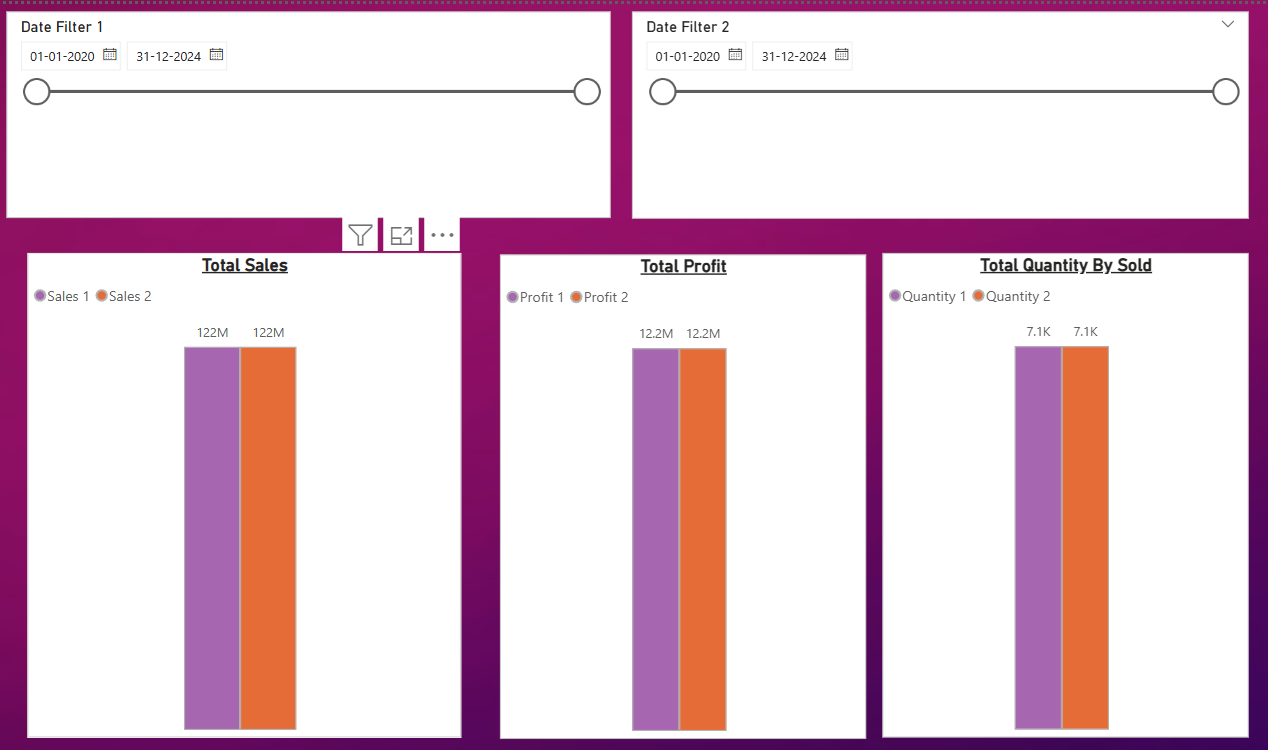

The dashboard page shown, as its layout file describes it:
{"tool":"powerbi","page":{"name":"Comparision Sales/Profit/Quantity","canvas":[1280,720],"ordinal":2},"visuals":[{"type":"slicer","fields":{"Values":["Date Table 1.Date"]},"box":[13.3,6.7,575,196.7],"z":0},{"type":"slicer","fields":{"Values":["Date Table 2.Date"]},"box":[608.6,7.1,587.1,197.1],"z":1000},{"type":"clusteredColumnChart","title":"Total Sales","fields":{"Y":["Sum(Fact Table.Net Sales  )","Date Table 1.Sum Of Net Sales"]},"box":[32.9,237.1,412.9,461.4],"z":2000},{"type":"clusteredColumnChart","title":"Total Profit","fields":{"Y":["Sum(Fact Table.Profit)","Measures Table.Total Profit"]},"box":[482.9,238.6,348.6,461.4],"z":3000},{"type":"clusteredColumnChart","title":"Total Quantity By Sold","fields":{"Y":["Sum(Fact Table.Units Sold)","Measures Table.Total Quantity"]},"box":[847.1,237.1,348.6,461.4],"z":4000}]}

Visuals, with their boxes on the page's 1280x720 design canvas (x1, y1, x2, y2). These are canvas units, not pixel positions in the 1268x750 screenshot, which may show the page scaled, cropped or inside an application window:
slicer - Date Table 1.Date: <box>13,7,588,203</box>
slicer - Date Table 2.Date: <box>609,7,1196,204</box>
"Total Sales" clusteredColumnChart: <box>33,237,446,698</box>
"Total Profit" clusteredColumnChart: <box>483,239,832,700</box>
"Total Quantity By Sold" clusteredColumnChart: <box>847,237,1196,698</box>
